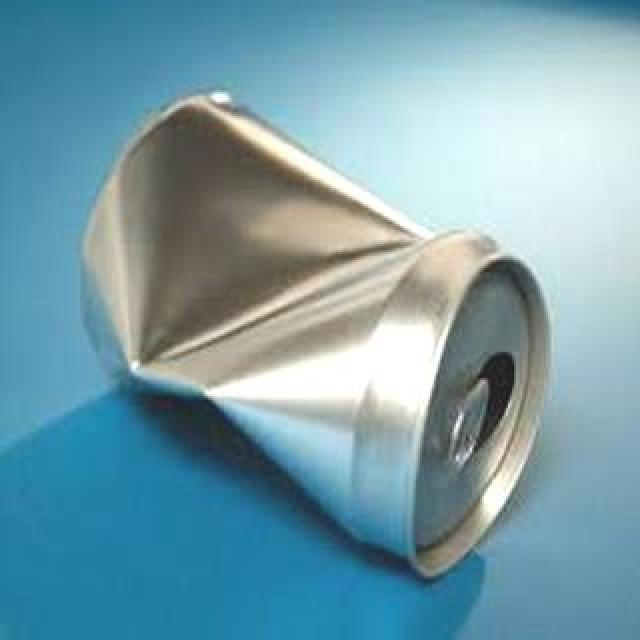Can: (74, 84, 562, 572)
